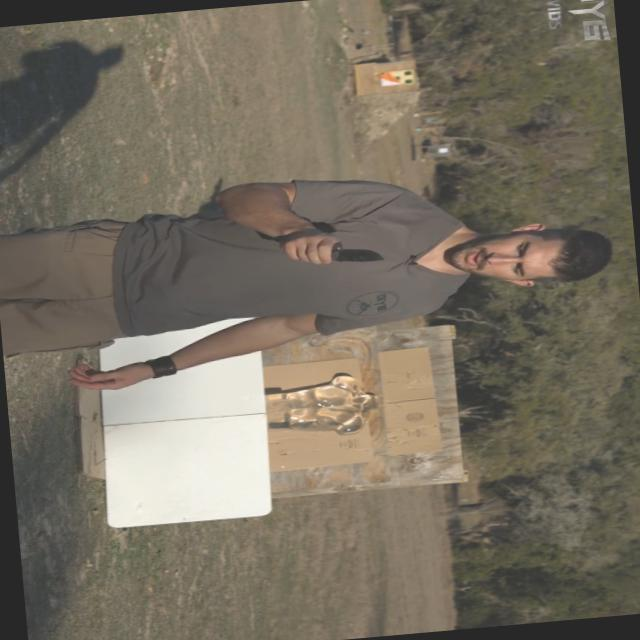knife: (286, 230, 391, 272)
